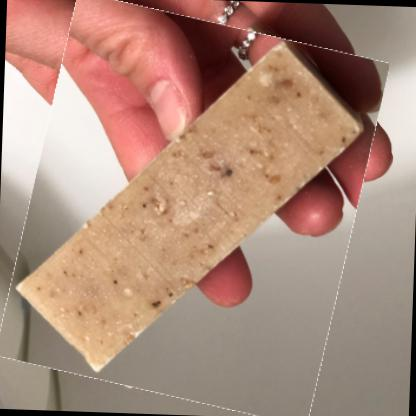soap: (9, 4, 377, 415)
